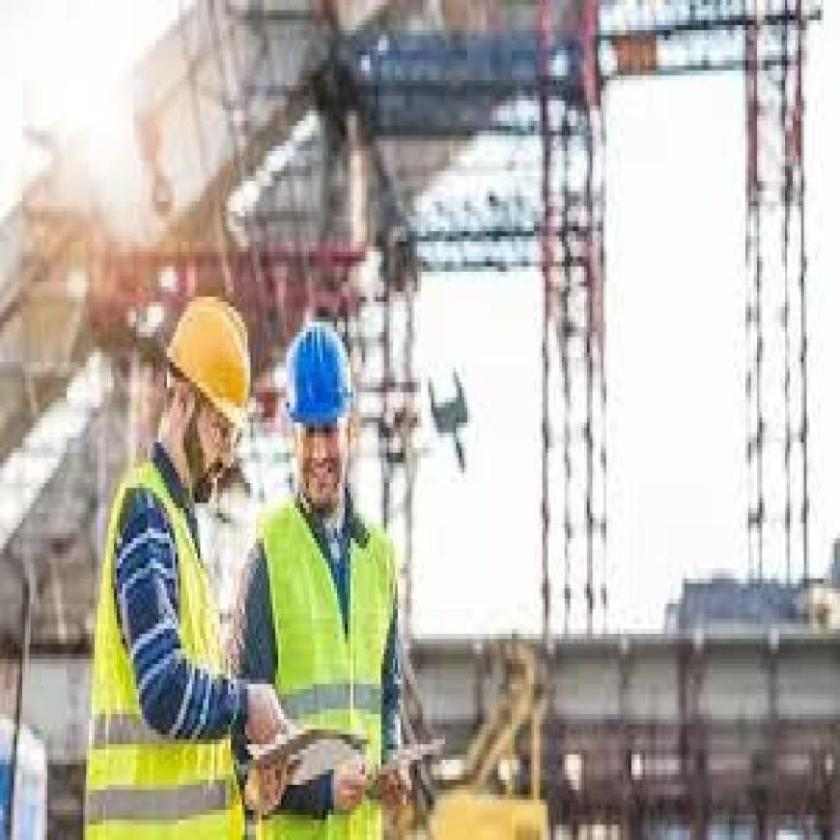Con_casco: (155, 291, 257, 519), (283, 318, 360, 522)
